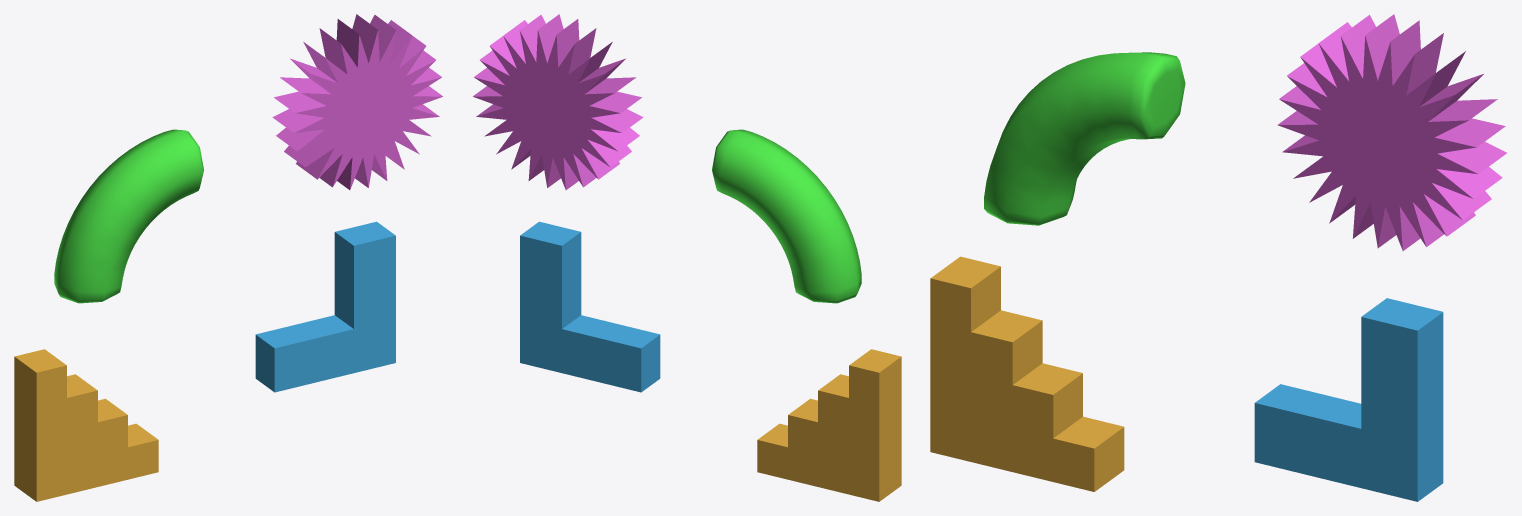
File: shapes_teste4.glb
3 views of the same model, side by side, from view 1: azimuth 30°, elevation 25°; view 2: azimuth 150°, elevation 25°; view 3: azimuth 330°, elevation 25° (orthographic). The views are drawn at different scales.
Visible parts, largest first — view 1: EstrelaMaisPontas, Escada, Chapeu, Cheetos; view 2: EstrelaMaisPontas, Escada, Chapeu, Cheetos; view 3: EstrelaMaisPontas, Escada, Chapeu, Cheetos.
Part boxes in pixels (<box>): EstrelaMaisPontas: <box>272,14,442,189</box>; Escada: <box>14,349,158,501</box>; Chapeu: <box>255,221,395,392</box>; Cheetos: <box>54,129,203,303</box>; EstrelaMaisPontas: <box>473,14,643,189</box>; Escada: <box>757,349,901,501</box>; Chapeu: <box>520,221,660,392</box>; Cheetos: <box>712,129,861,303</box>; EstrelaMaisPontas: <box>1277,14,1506,250</box>; Escada: <box>930,256,1124,491</box>; Chapeu: <box>1254,298,1443,501</box>; Cheetos: <box>984,52,1185,225</box>.
Bounding box in the file's own units: 8.1 × 7.38 × 1.18.
